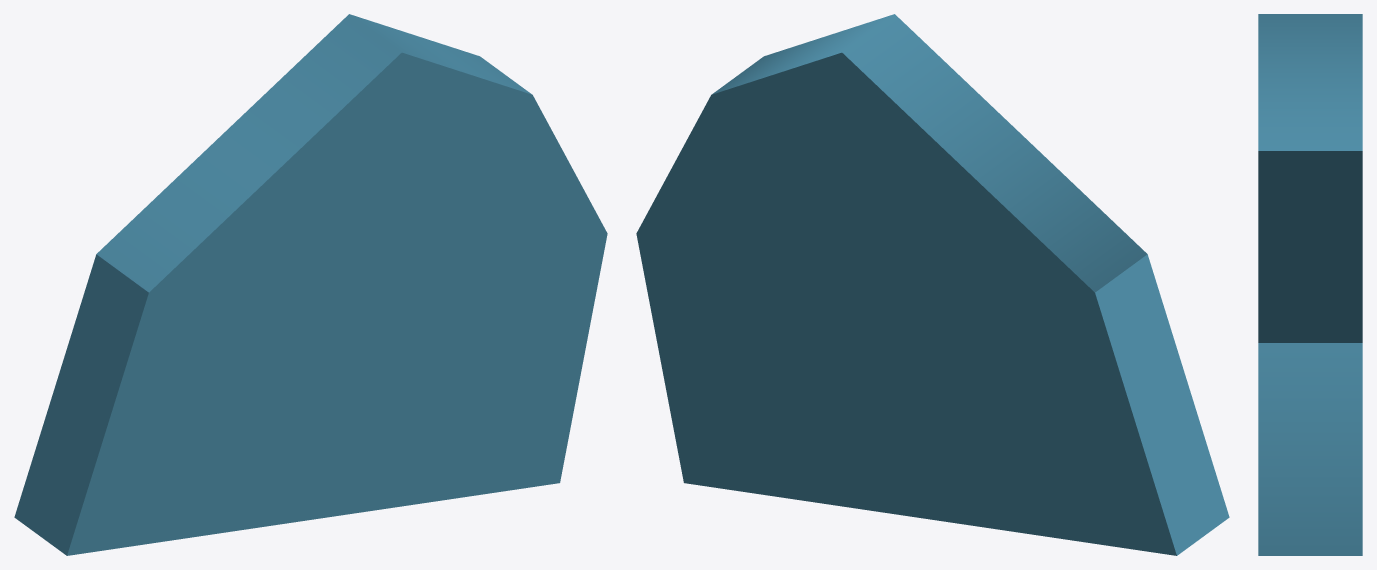
The model's file is NexusA_Trigger_13.fbx.
The picture shows the model from 3 angles, left to right: view 1: azimuth 30°, elevation 25°; view 2: azimuth 150°, elevation 25°; view 3: azimuth 270°, elevation 25°; orthographic projection.
Parts seen in each view (by area): view 1: pCube42; view 2: pCube42; view 3: pCube42.
Part boxes in pixels (x1=…): pCube42: x1=14, y1=14, x2=607, y2=555; pCube42: x1=636, y1=14, x2=1229, y2=555; pCube42: x1=1258, y1=14, x2=1362, y2=555.
Bounding box in the file's own units: 51.32 × 42.56 × 8.65.
